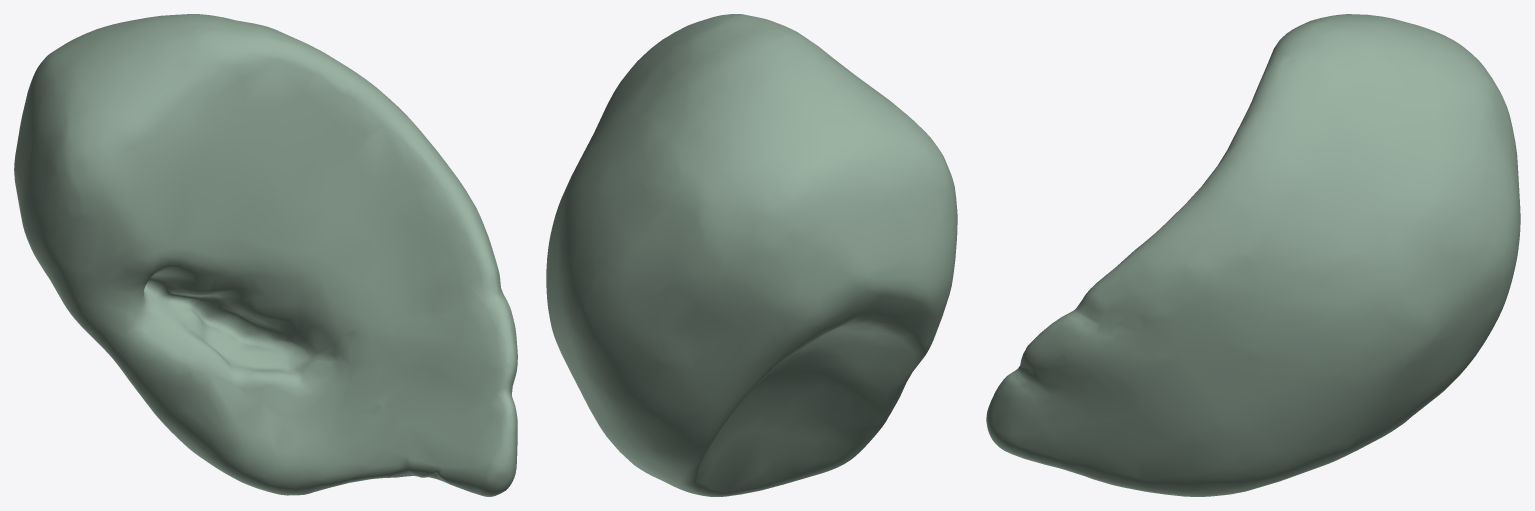
The model's file is spleen.glb.
The picture shows the model from 3 angles, left to right: view 1: azimuth 30°, elevation 25°; view 2: azimuth 150°, elevation 25°; view 3: azimuth 270°, elevation 25°; orthographic projection. The views are drawn at different scales.
Visible parts, largest first — view 1: FMA7196.stl; view 2: FMA7196.stl; view 3: FMA7196.stl.
Part boxes in pixels (x1,y1,x2,y2): FMA7196.stl: (14, 14, 517, 496); FMA7196.stl: (546, 14, 957, 496); FMA7196.stl: (986, 14, 1520, 496).
Size of the model in its own units: 1.49 by 1.69 by 2.
